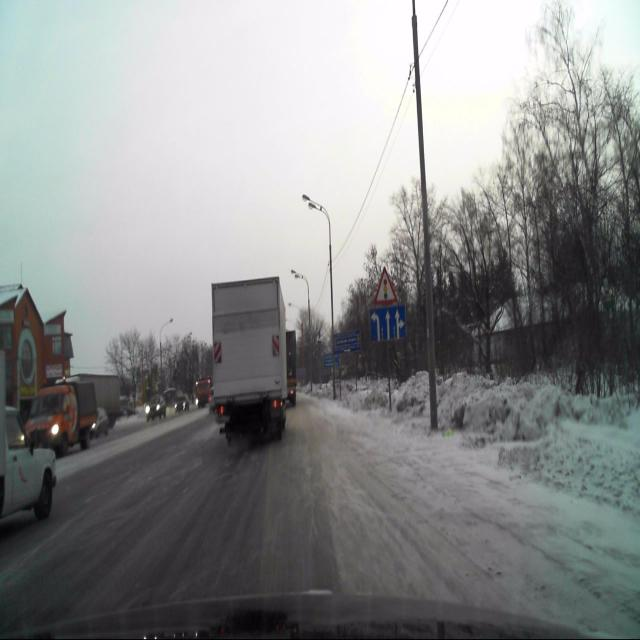road sign: (369, 306, 408, 342), (374, 268, 396, 303)
